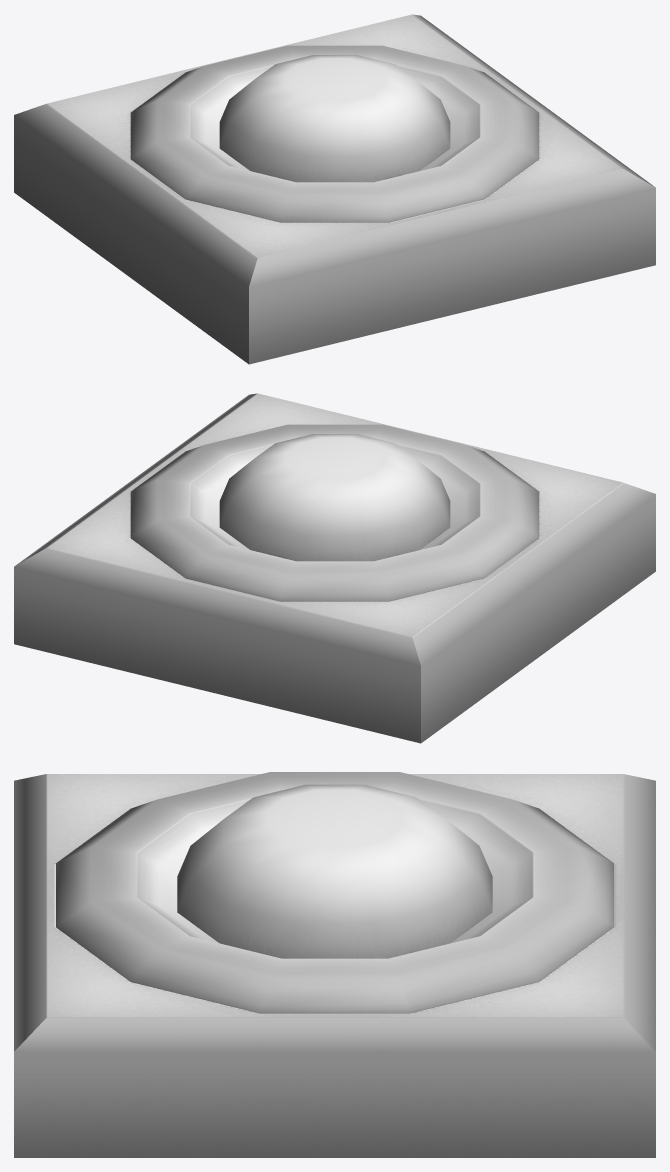
The picture shows the model from 3 angles, top to bottom: view 1: azimuth 30°, elevation 25°; view 2: azimuth 150°, elevation 25°; view 3: azimuth 270°, elevation 25°; orthographic projection. The views are drawn at different scales.
Visible parts, largest first — view 1: polySurface1, pPipe1, pCylinder3; view 2: polySurface1, pPipe1, pCylinder3; view 3: polySurface1, pPipe1, pCylinder3.
Part boxes in pixels (x1,y1,x2,y2): polySurface1: (14, 14, 655, 364); pPipe1: (130, 45, 539, 222); pCylinder3: (219, 55, 450, 182); polySurface1: (14, 393, 655, 743); pPipe1: (130, 424, 539, 601); pCylinder3: (219, 434, 450, 561); polySurface1: (14, 774, 655, 1157); pPipe1: (56, 772, 613, 1013); pCylinder3: (177, 784, 492, 958).
Bounding box in the file's own units: 5 × 1.75 × 5.
Materials: 1 (1 with a texture image).
